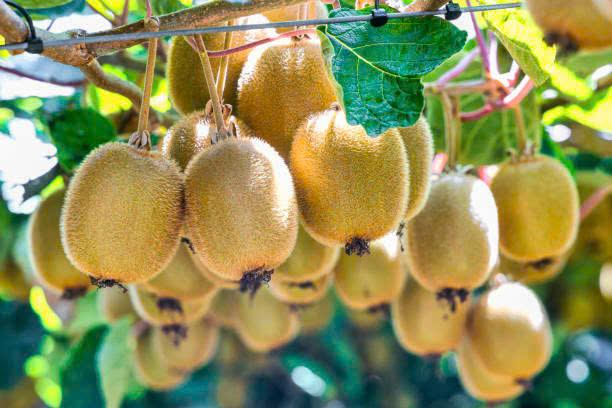kiwi: (57, 135, 182, 287), (289, 111, 412, 258), (185, 140, 299, 285), (416, 172, 496, 302), (492, 149, 583, 258), (476, 288, 561, 384), (239, 41, 328, 123), (165, 29, 236, 108), (340, 239, 401, 312)
